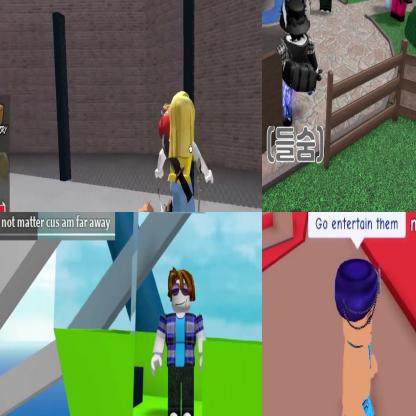Roblox-Avatar: (152, 266, 207, 416), (336, 259, 384, 416), (155, 91, 215, 212), (277, 1, 325, 128), (389, 1, 416, 24), (315, 1, 341, 14)
